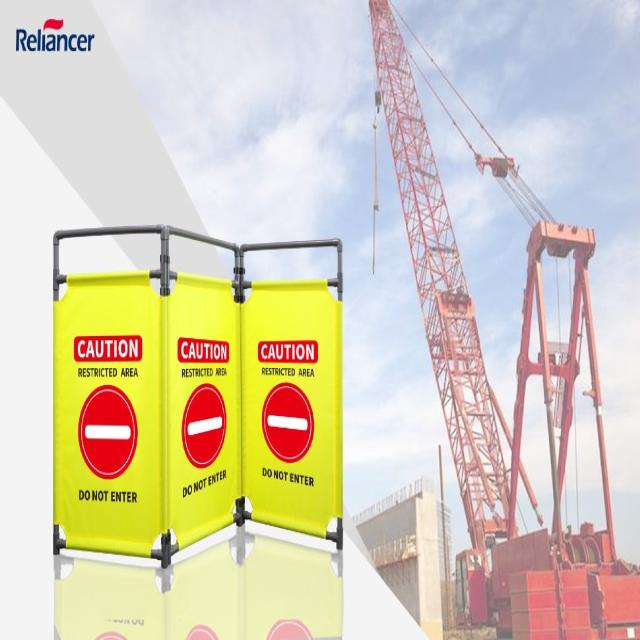cone: (52, 223, 344, 637)
